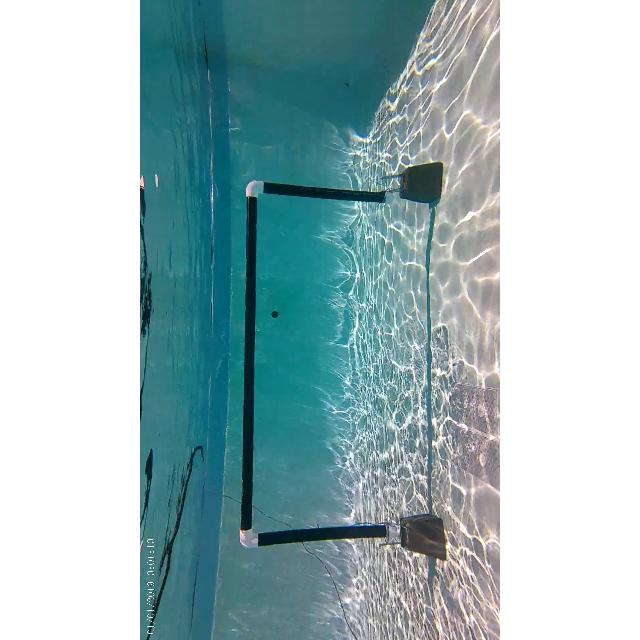prequal gate: (244, 181, 398, 544)
prequal gate leg l: (236, 520, 404, 552)
prequal gate leg r: (243, 176, 397, 210)
